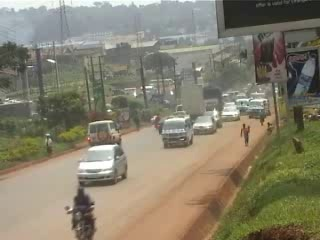Car: (76, 143, 128, 190), (85, 119, 126, 152), (189, 113, 218, 137), (155, 113, 180, 136), (201, 109, 225, 129), (219, 105, 242, 121), (168, 108, 193, 122), (220, 100, 241, 110)
Motorcycle: (63, 189, 100, 238), (154, 115, 163, 137), (150, 113, 160, 127)
